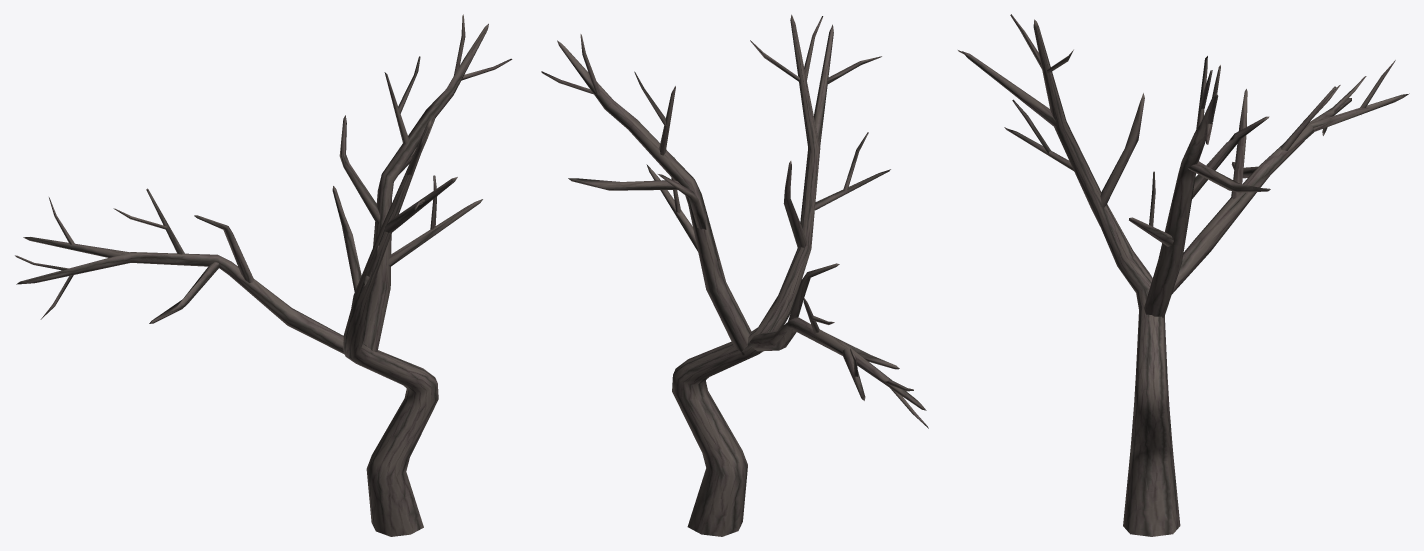
File: DeadTree_7.glb
3 renders of one model, left to right at view 1: azimuth 30°, elevation 25°; view 2: azimuth 150°, elevation 25°; view 3: azimuth 270°, elevation 25°, orthographic. The views are drawn at different scales.
Bounding box in the file's own units: 6.11 × 6.31 × 5.03.
Materials: 1 (1 with a texture image).
